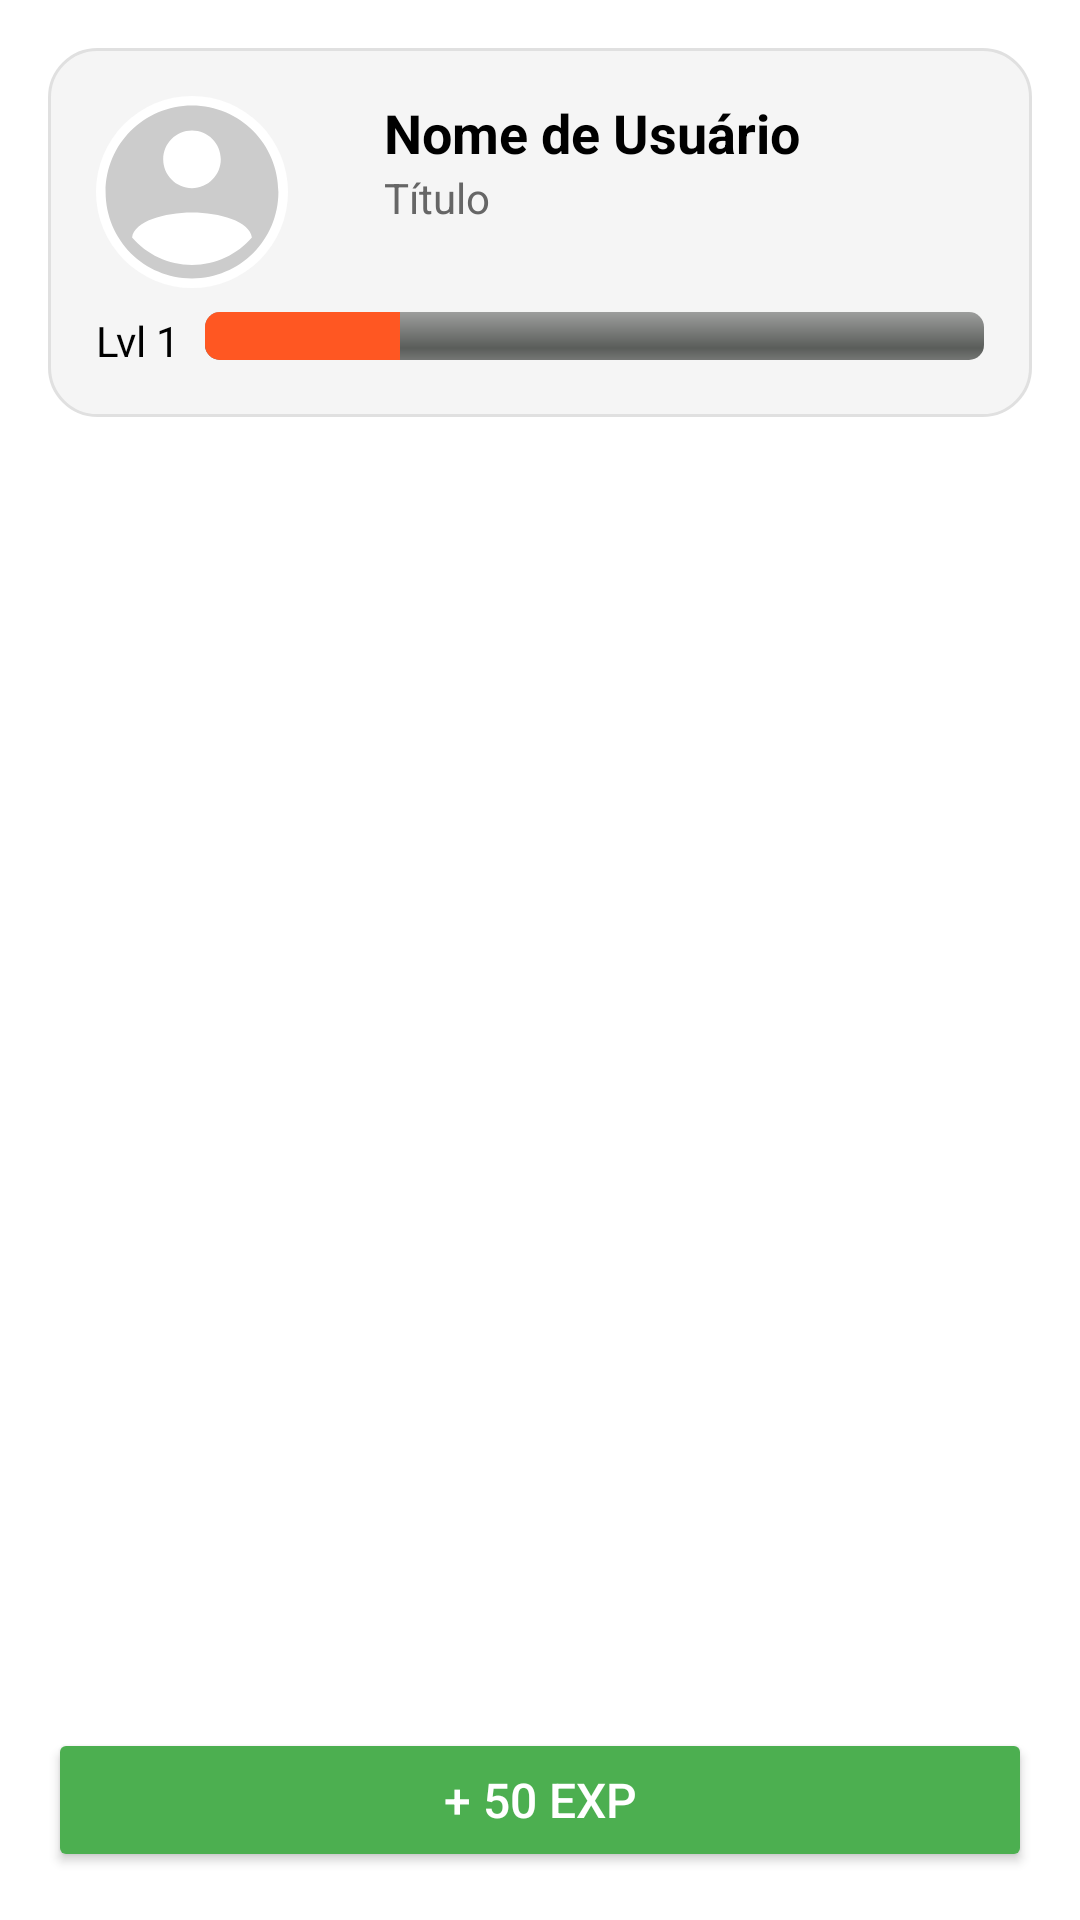

Where to tap for icons on this 1080*1920 app screen, as [x,y]:
Profile Pricture: [192,192]
